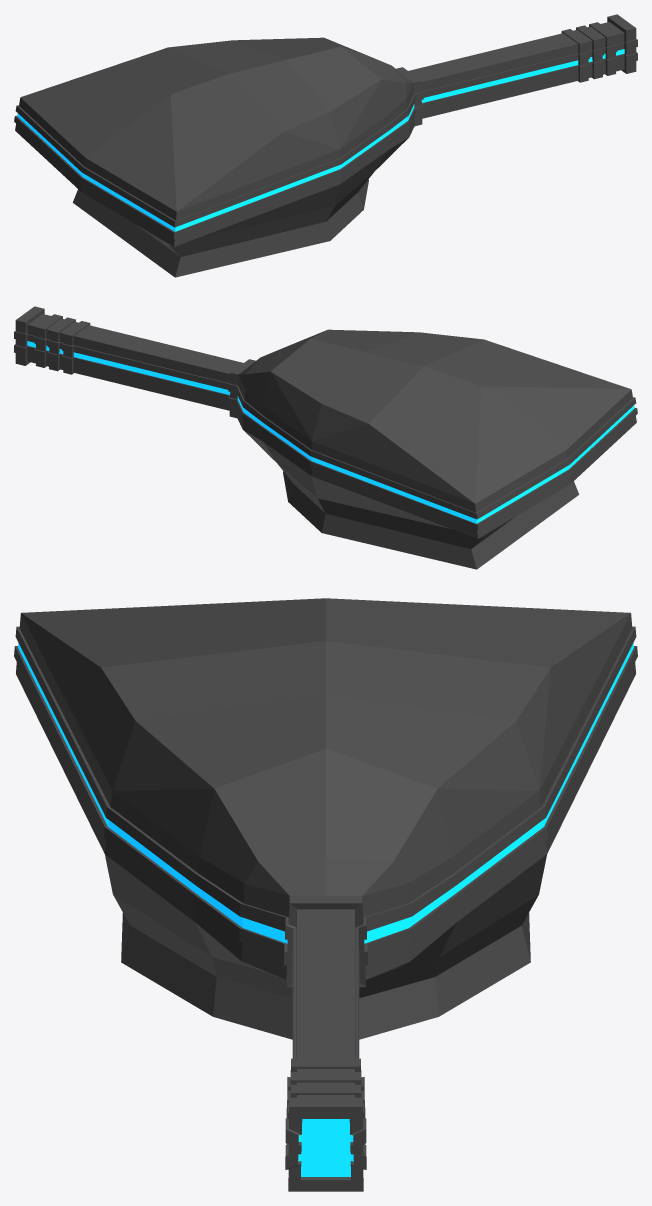
Rendered from laser_tower.fbx.
3 views of the same model, one above another, from view 1: azimuth 30°, elevation 25°; view 2: azimuth 150°, elevation 25°; view 3: azimuth 270°, elevation 25° (orthographic). The views are drawn at different scales.
Visible parts, largest first — view 1: turret.001; view 2: turret.001; view 3: turret.001.
Part boxes in pixels (box(x1,y1,x2,y2)): turret.001: box(14, 14, 637, 277); turret.001: box(14, 306, 637, 569); turret.001: box(14, 598, 637, 1191).
Size of the model in its own units: 465 by 114 by 236.
